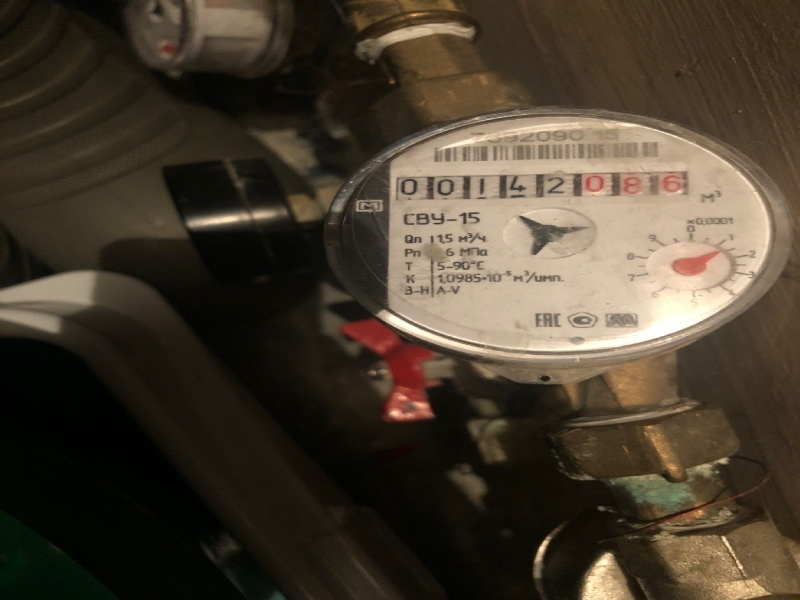dial: (387, 163, 690, 201)
